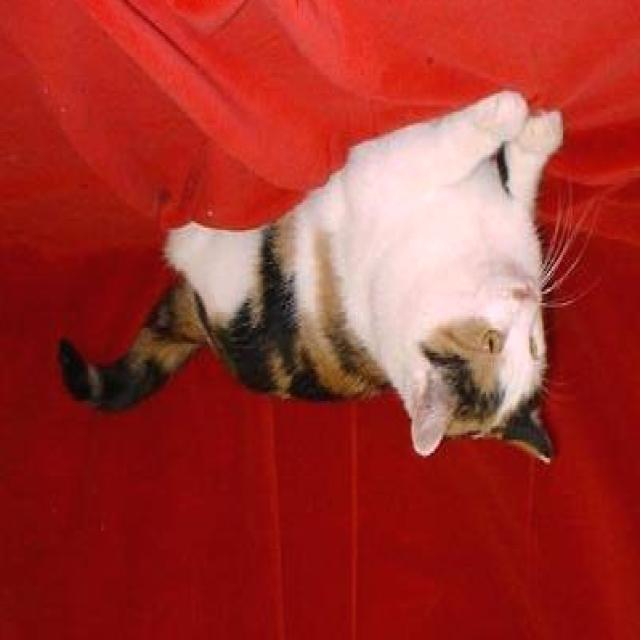Kucing: (63, 72, 600, 552)
